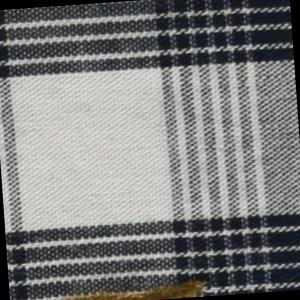Oil Stain: (53, 276, 213, 300)
